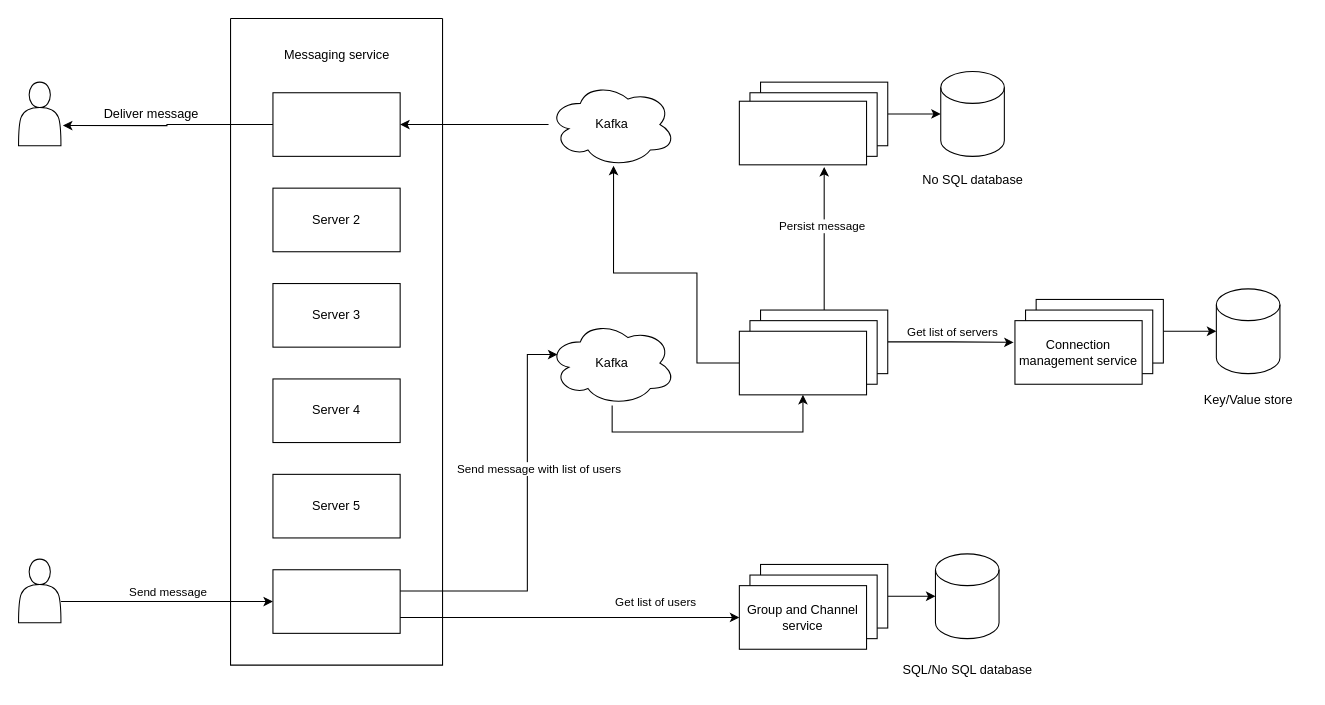
Some shapes in this 1325 by 705 pixel diagram are drawn without their labels. Each missing label, with the box of its shape:
Chat history service: (738, 100, 867, 165)
Message distributing service: (738, 330, 867, 395)
Server 1: (272, 92, 400, 156)
Server 6: (272, 569, 400, 633)
